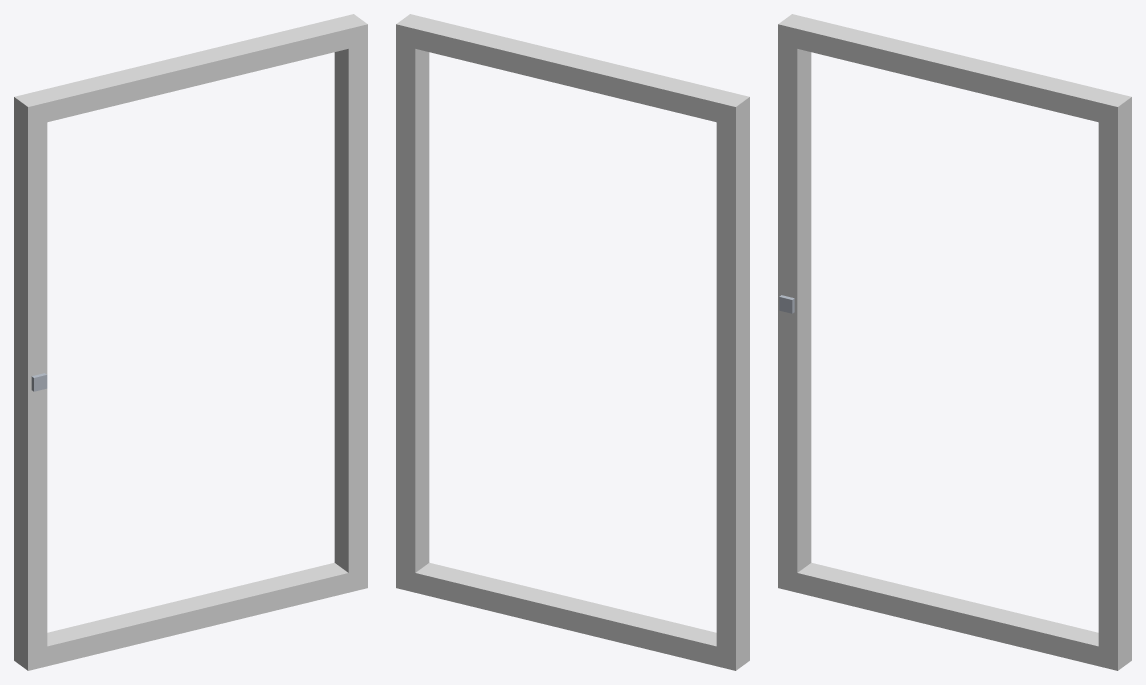
The model's file is Window5_01_2.fbx.
The picture shows the model from 3 angles, left to right: view 1: azimuth 30°, elevation 25°; view 2: azimuth 150°, elevation 25°; view 3: azimuth 330°, elevation 25°; orthographic projection.
Parts seen in each view (by area): view 1: Window5_01_2; view 2: Window5_01_2; view 3: Window5_01_2.
Part boxes in pixels (bbox=[...]): Window5_01_2: bbox=[14, 14, 367, 670]; Window5_01_2: bbox=[396, 14, 749, 670]; Window5_01_2: bbox=[778, 14, 1131, 670].
Bounding box in the file's own units: 71.67 × 114 × 6.
